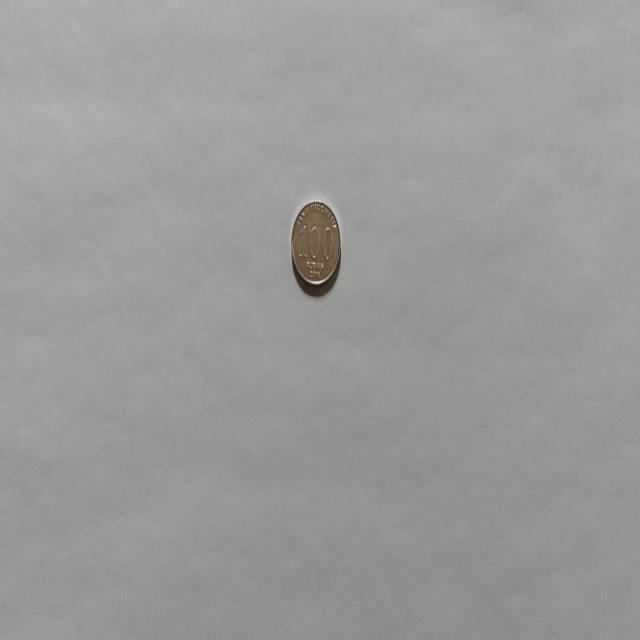seratus rupiah: (290, 198, 341, 288)
